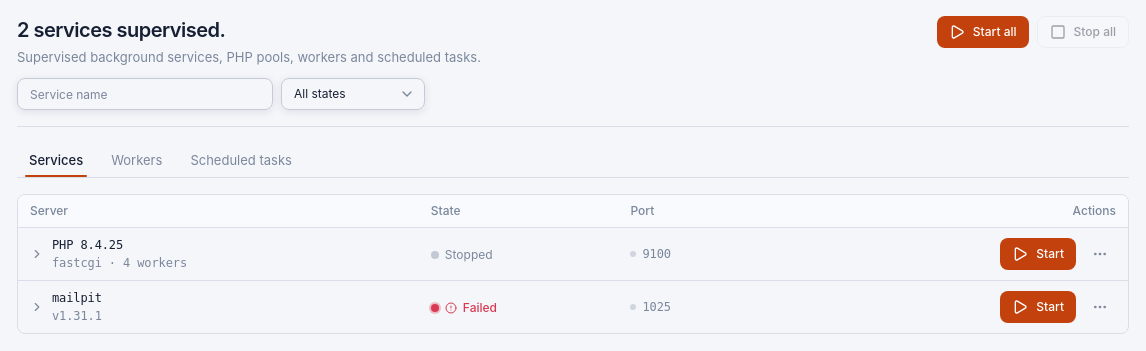
Scenario: ServicesPage › filters by state and clears it again
Expected: the text "mailpit" is shown, [52,289,102,307]
Select "Failed" in the dropdown named "State" at (353,94), box [281,78,425,110]
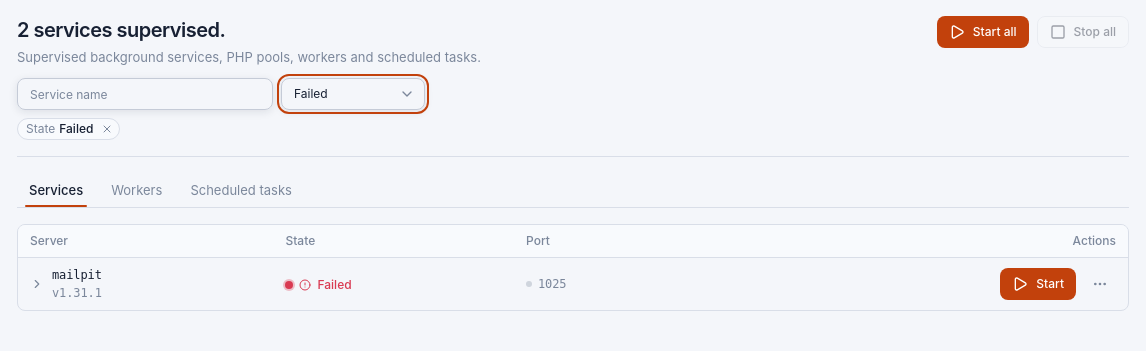
Expected: the text "mailpit" is shown, [52,266,102,284]
Now the button "PHP 8.4.25" is gone
